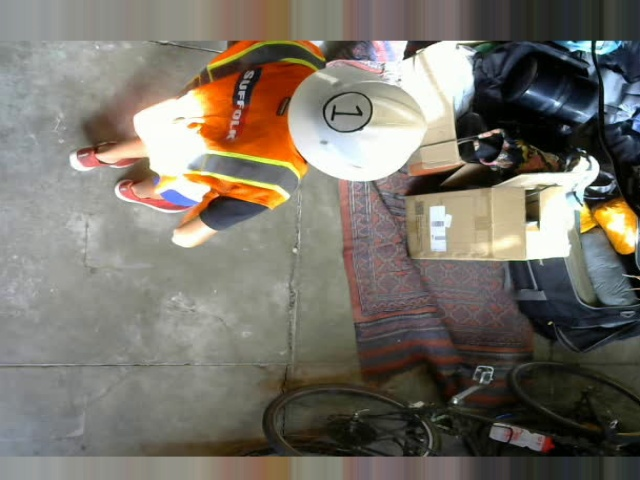one: (323, 90, 370, 130)
